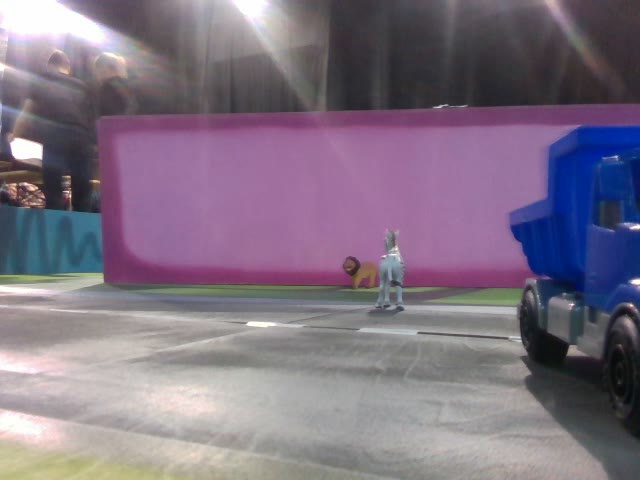toy: (379, 226, 405, 311), (342, 247, 379, 288)
